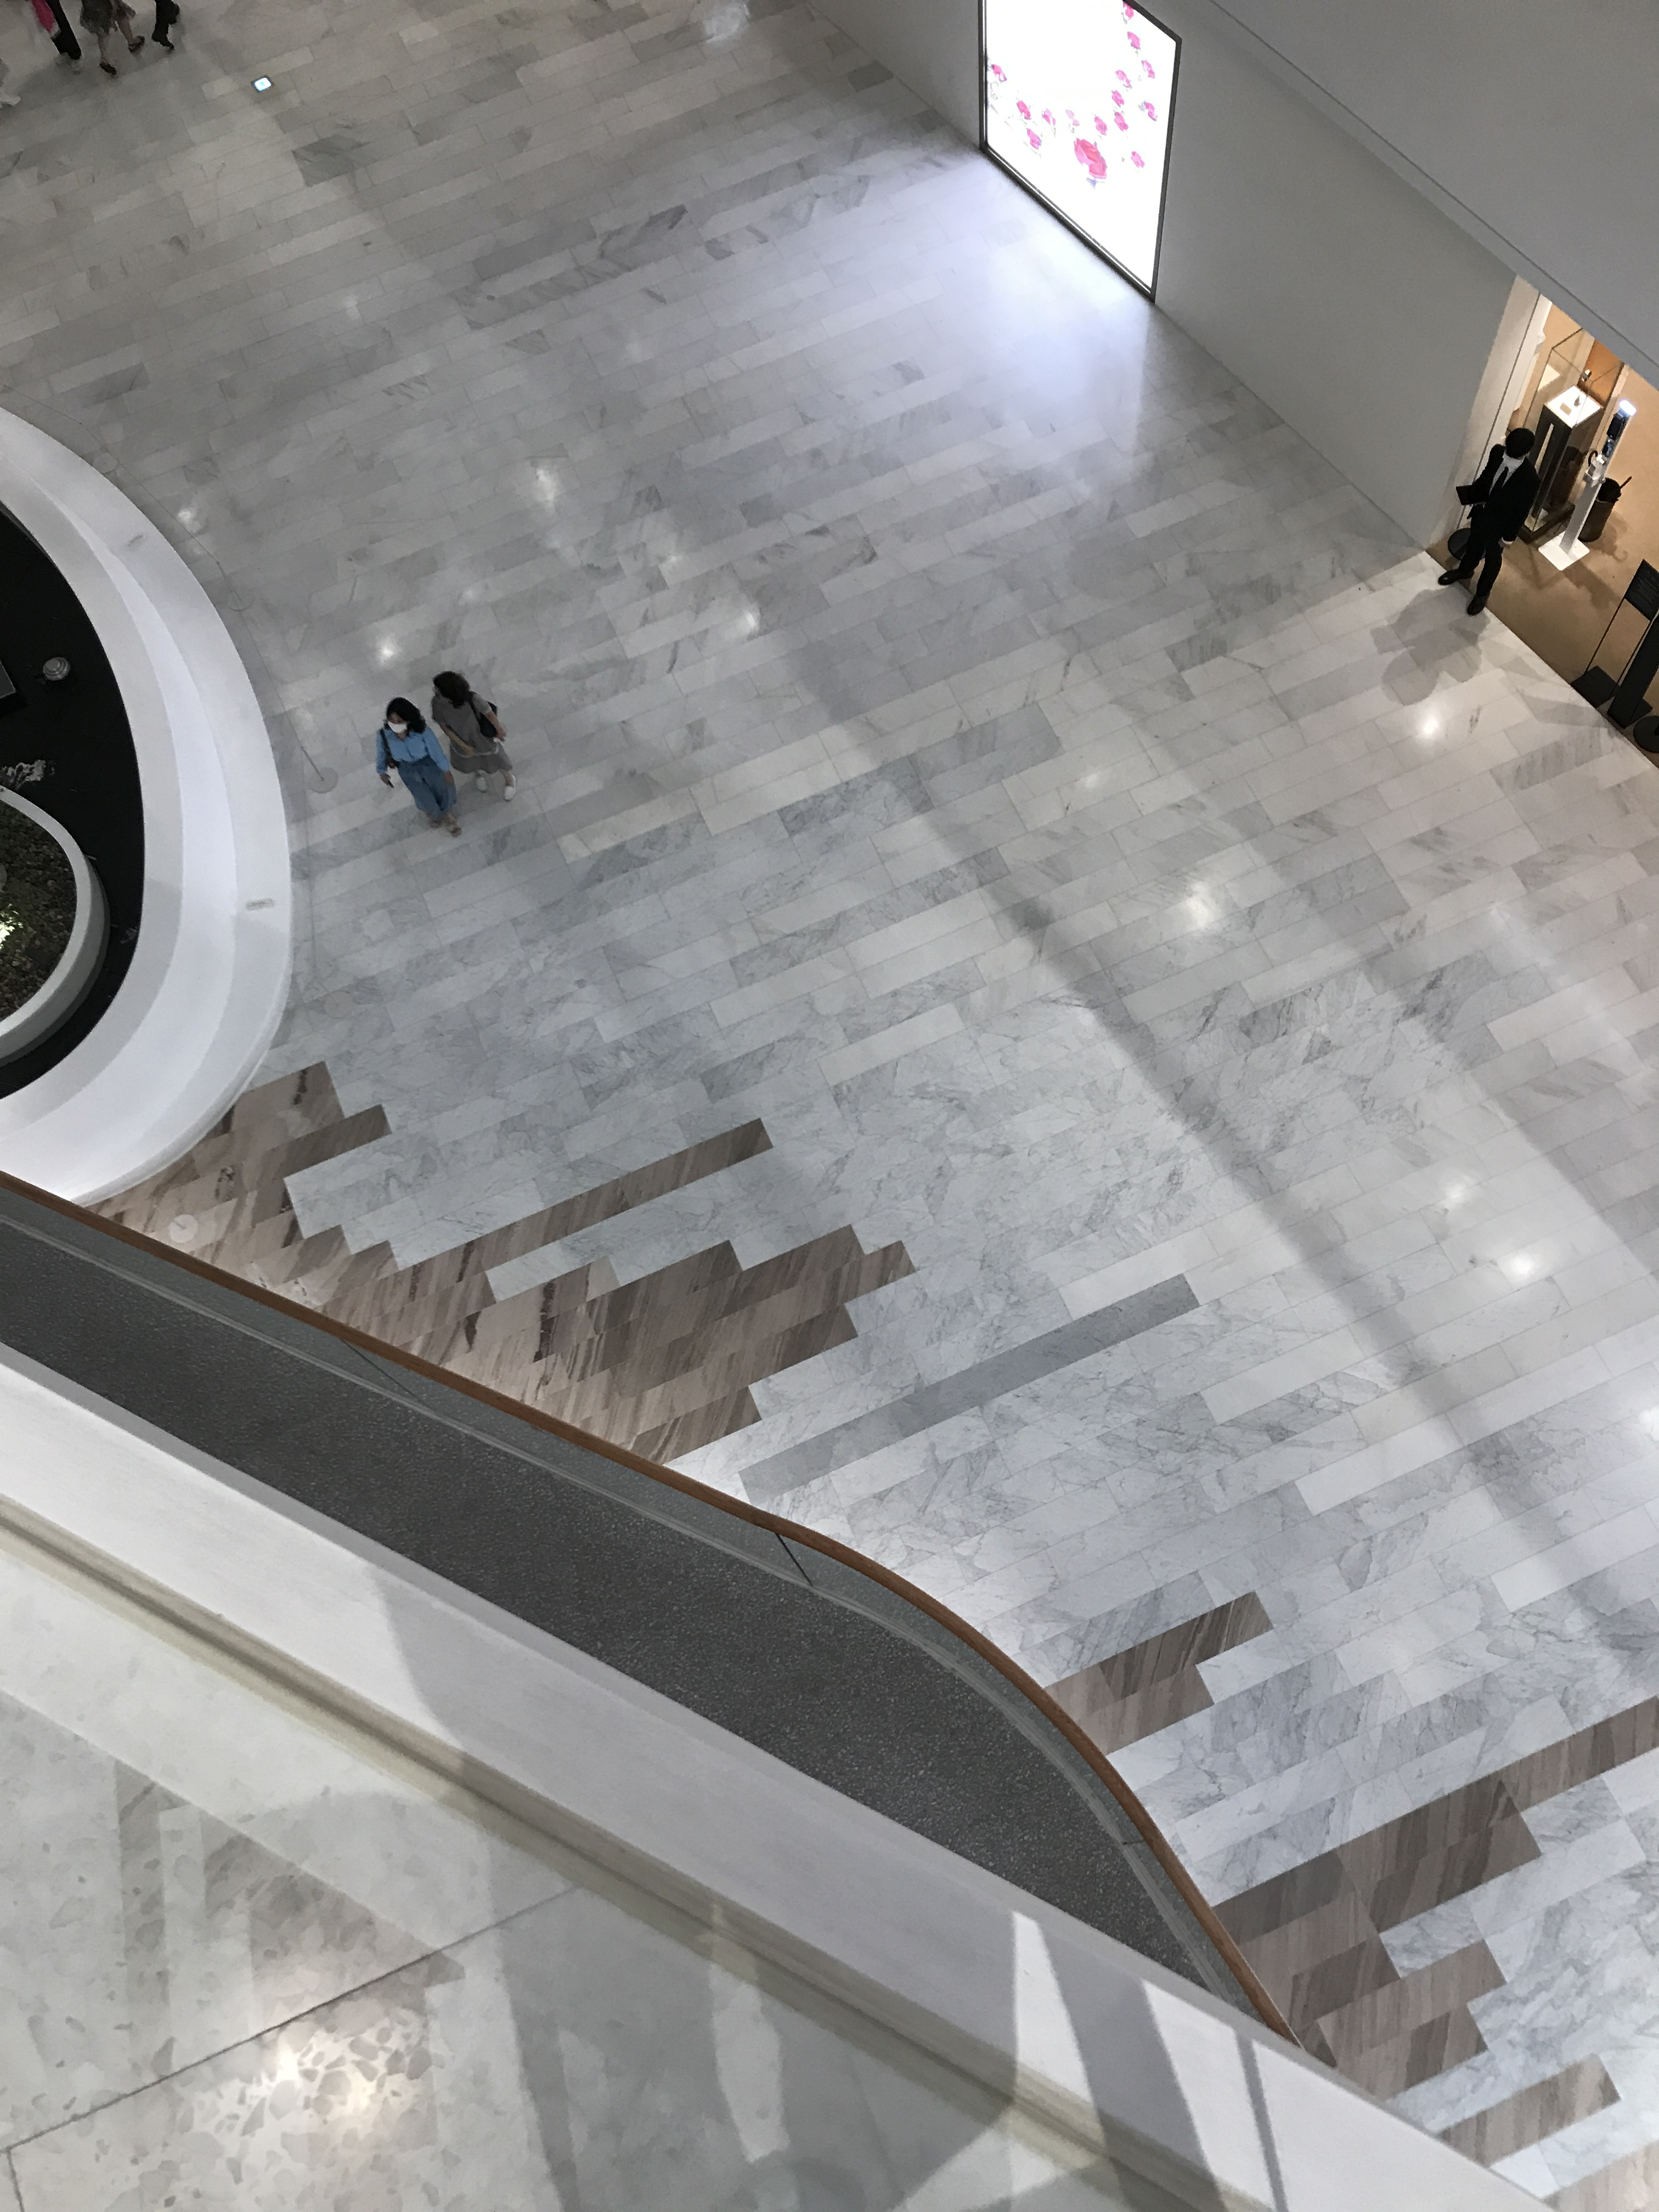person: (1437, 427, 1541, 616), (372, 696, 463, 838), (428, 670, 519, 804), (78, 1, 144, 80)
